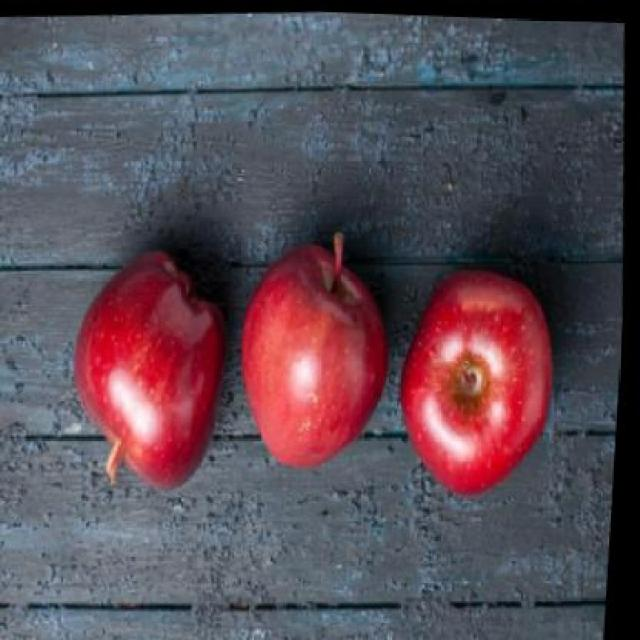Fresh Apple: (400, 269, 558, 489), (77, 264, 238, 476), (254, 248, 372, 463)
